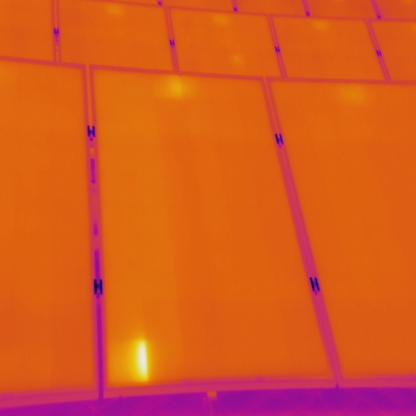hotspot: (105, 336, 152, 390)
